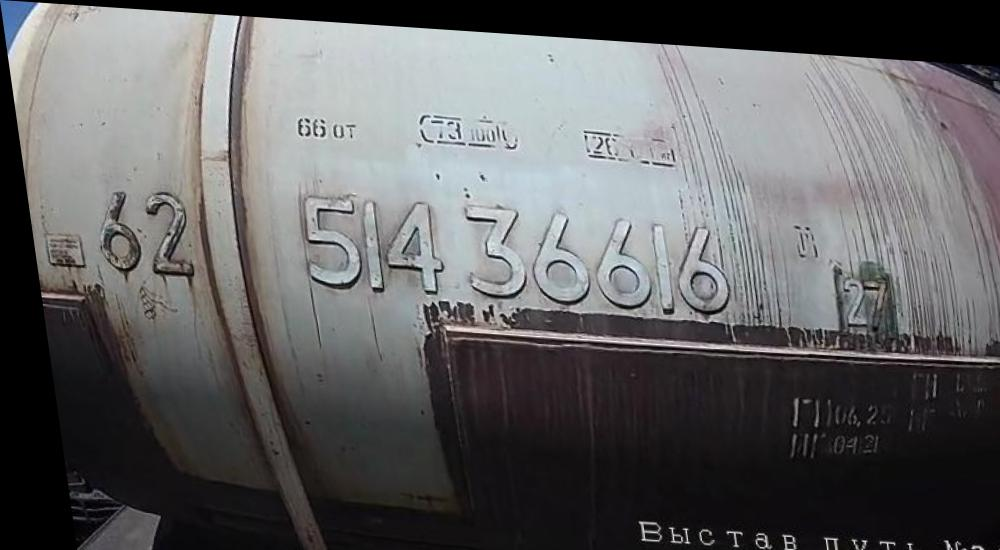Wagon-number: (283, 182, 732, 313)
